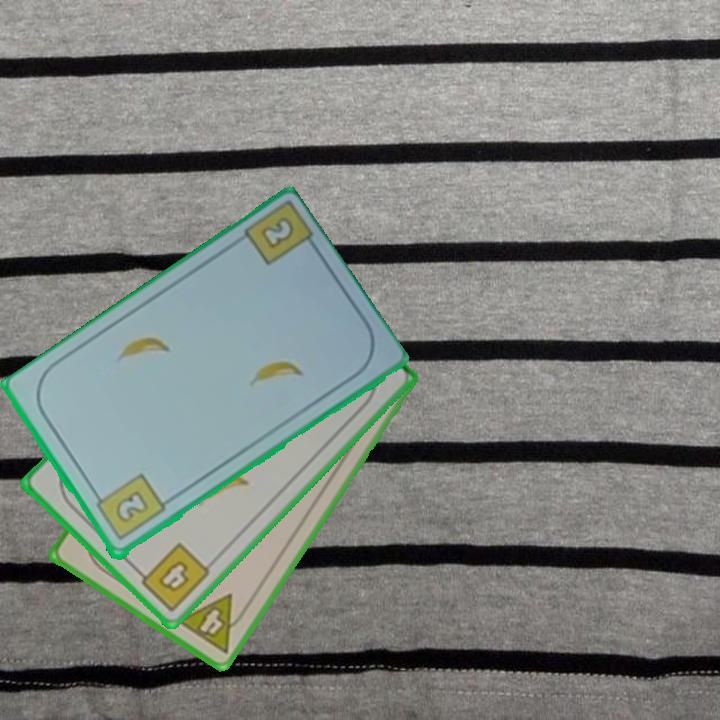2b: (90, 471, 168, 545), (257, 213, 298, 252)
4b: (131, 539, 213, 615)
4p: (173, 590, 253, 657)
